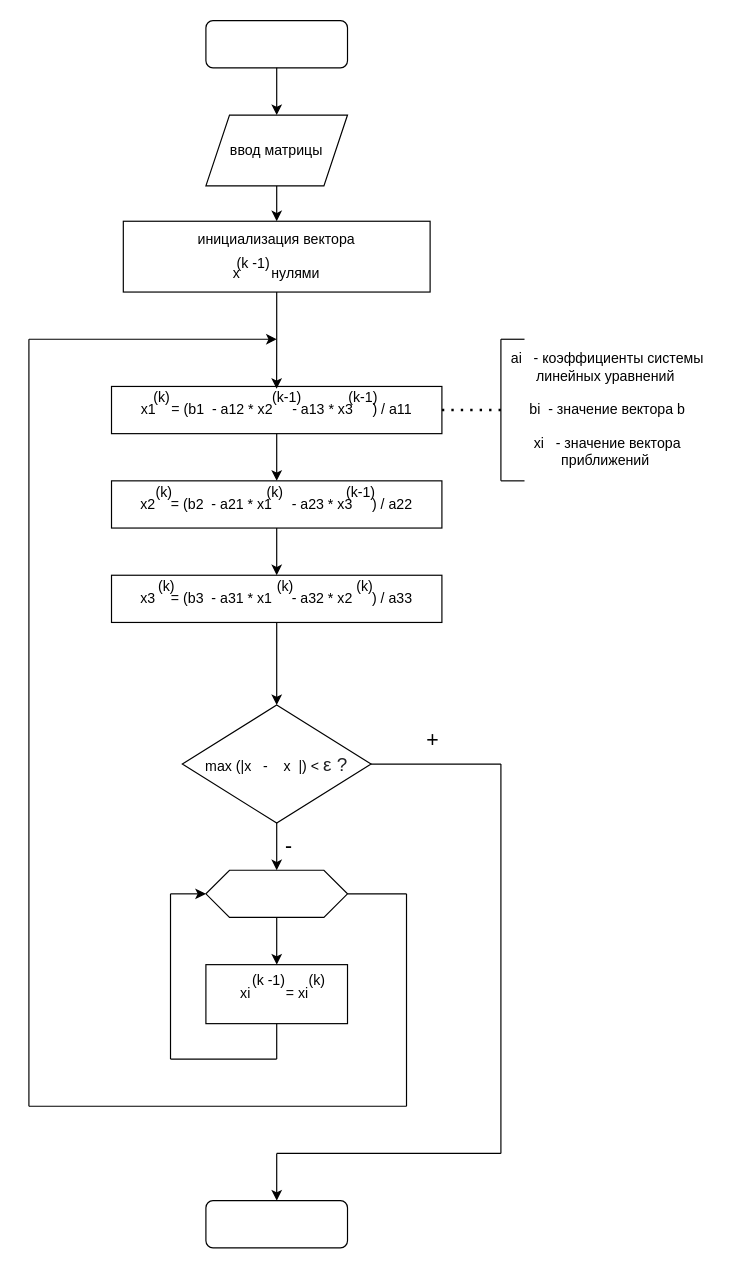
Some shapes in this 734 by 1269 pixel diagram are drawn without their labels. The shapes that lost their labels are listed below. From the top down, each one's centre as x and y in pixels, then its label:
At (276,43): "Начало".
At (276,893): "i = 0, n".
At (276,1223): "Конец".
